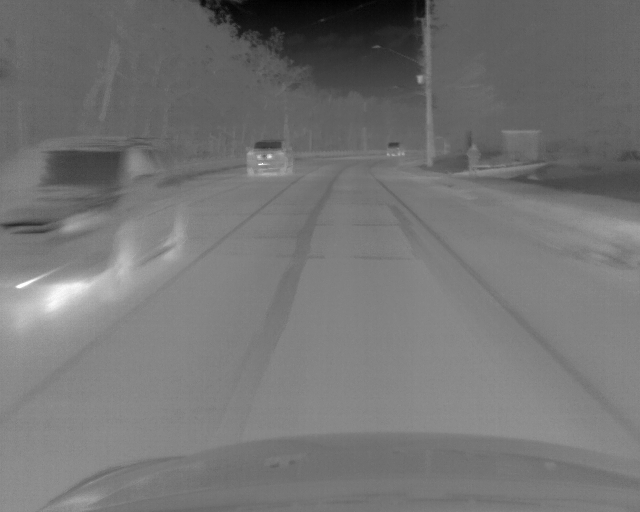car: (1, 134, 188, 289), (243, 140, 295, 175), (386, 141, 406, 157)
people: (466, 142, 481, 176)
